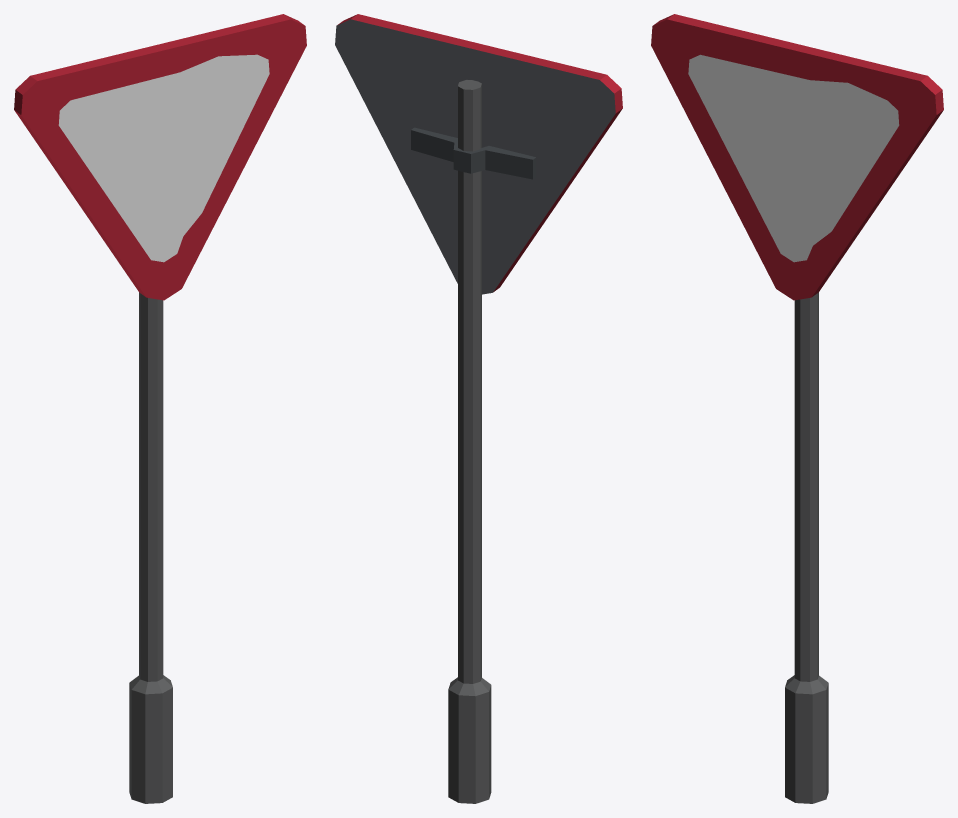
File: SM_Prop_Sign_01.fbx
The picture shows the model from 3 angles, left to right: view 1: azimuth 30°, elevation 25°; view 2: azimuth 150°, elevation 25°; view 3: azimuth 330°, elevation 25°; orthographic projection.
Visible parts, largest first — view 1: SM_Prop_Sign_01; view 2: SM_Prop_Sign_01; view 3: SM_Prop_Sign_01.
Boxes of the visible parts, bbox=[...] form: SM_Prop_Sign_01: bbox=[14, 14, 306, 803]; SM_Prop_Sign_01: bbox=[335, 14, 622, 803]; SM_Prop_Sign_01: bbox=[651, 14, 943, 803].
Bounding box in the file's own units: 86.46 × 218 × 12.74.
